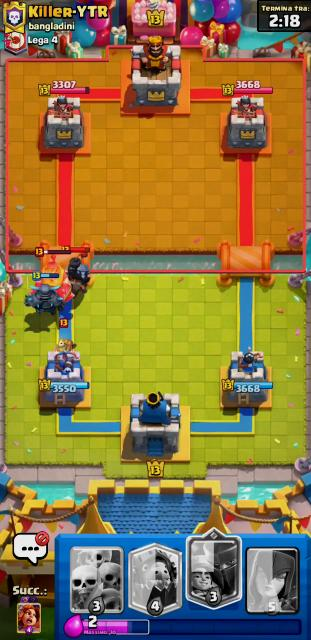ally_melee: (25, 284, 72, 316)
enemy_melee: (65, 253, 95, 299), (52, 338, 77, 352)
enemy_tank: (29, 254, 75, 304)
